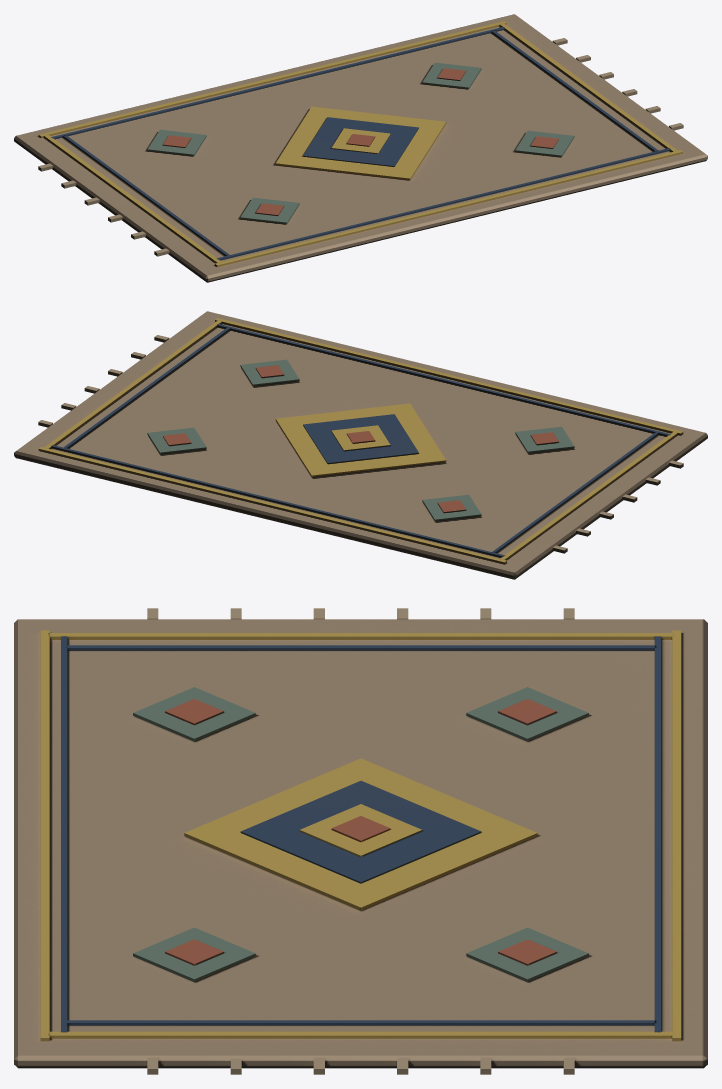
Rendered from 0-20261016-1900-ev015-r02-collab-arearug_baked.glb.
3 views of the same model, one above another, from view 1: azimuth 30°, elevation 25°; view 2: azimuth 150°, elevation 25°; view 3: azimuth 270°, elevation 25° (orthographic). The views are drawn at different scales.
Parts seen in each view (by area): view 1: SW_Collab_AreaRug; view 2: SW_Collab_AreaRug; view 3: SW_Collab_AreaRug.
Part boxes in pixels (x1,y1,x2,y2): SW_Collab_AreaRug: (14,14,707,282); SW_Collab_AreaRug: (14,311,707,579); SW_Collab_AreaRug: (14,608,707,1074).
Bounding box in the file's own units: 3.14 × 0.069 × 2.
Materials: 1 (1 with a texture image).
